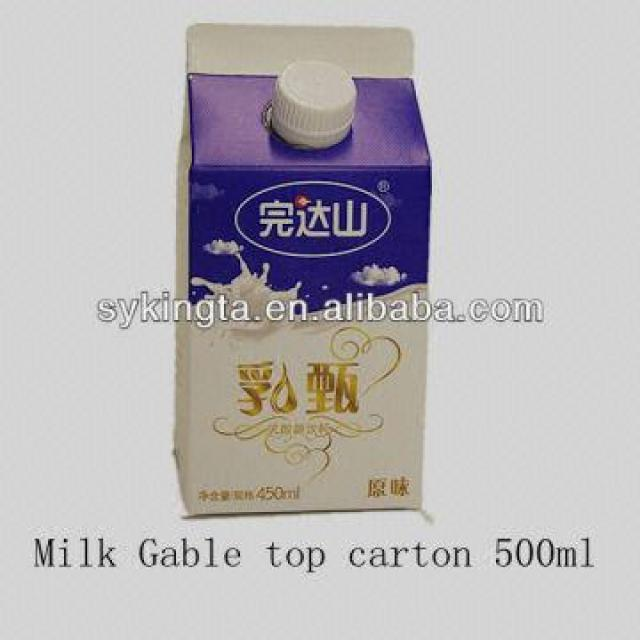Carton: (158, 14, 447, 535)
